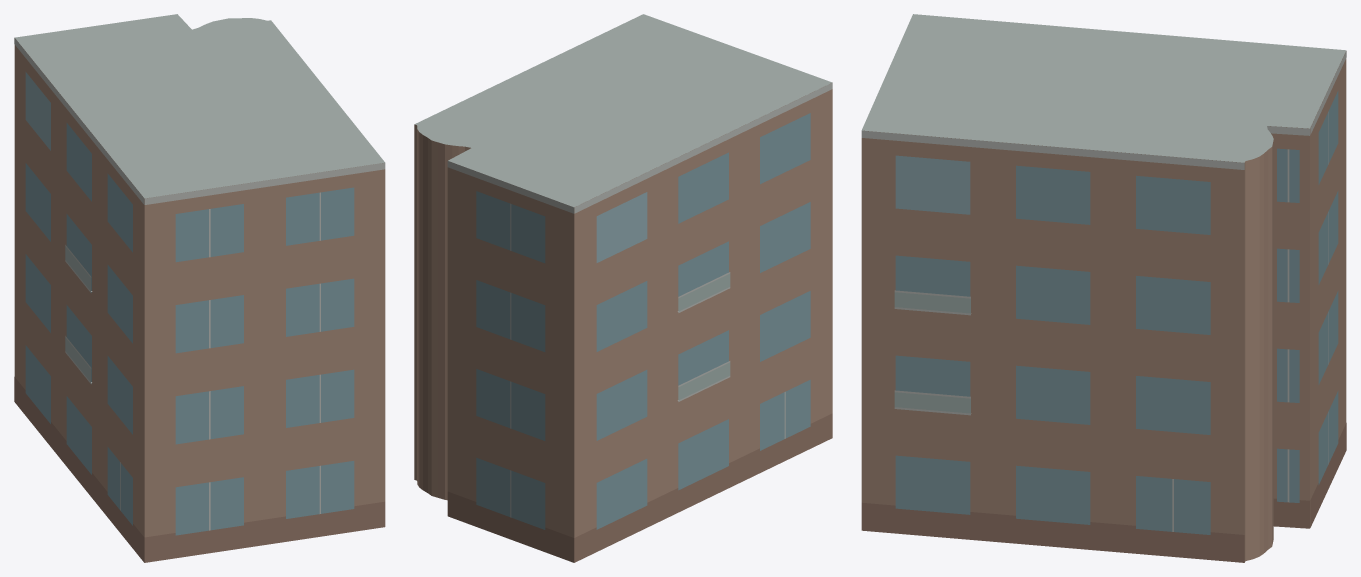
Rendered from survey-upis-32881834.glb.
The picture shows the model from 3 angles, left to right: view 1: azimuth 30°, elevation 25°; view 2: azimuth 150°, elevation 25°; view 3: azimuth 270°, elevation 25°; orthographic projection. The views are drawn at different scales.
Parts seen in each view (by area): view 1: survey-upis-32881834.tmp; view 2: survey-upis-32881834.tmp; view 3: survey-upis-32881834.tmp.
Part boxes in pixels (box(x1,y1,x2,y2)): survey-upis-32881834.tmp: box(14, 14, 385, 562); survey-upis-32881834.tmp: box(414, 14, 832, 562); survey-upis-32881834.tmp: box(861, 14, 1346, 562).
Bounding box in the file's own units: 10.62 × 13.3 × 14.62.
